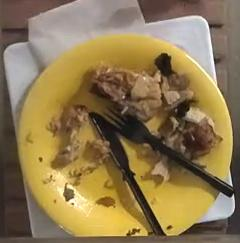chicken: (89, 53, 217, 182)
fruit: (119, 136, 217, 234)
